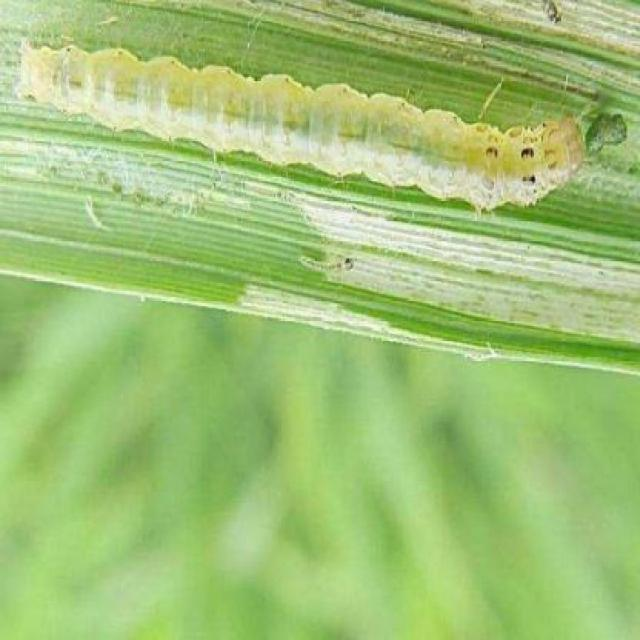leaf-folder: (0, 0, 584, 252)
